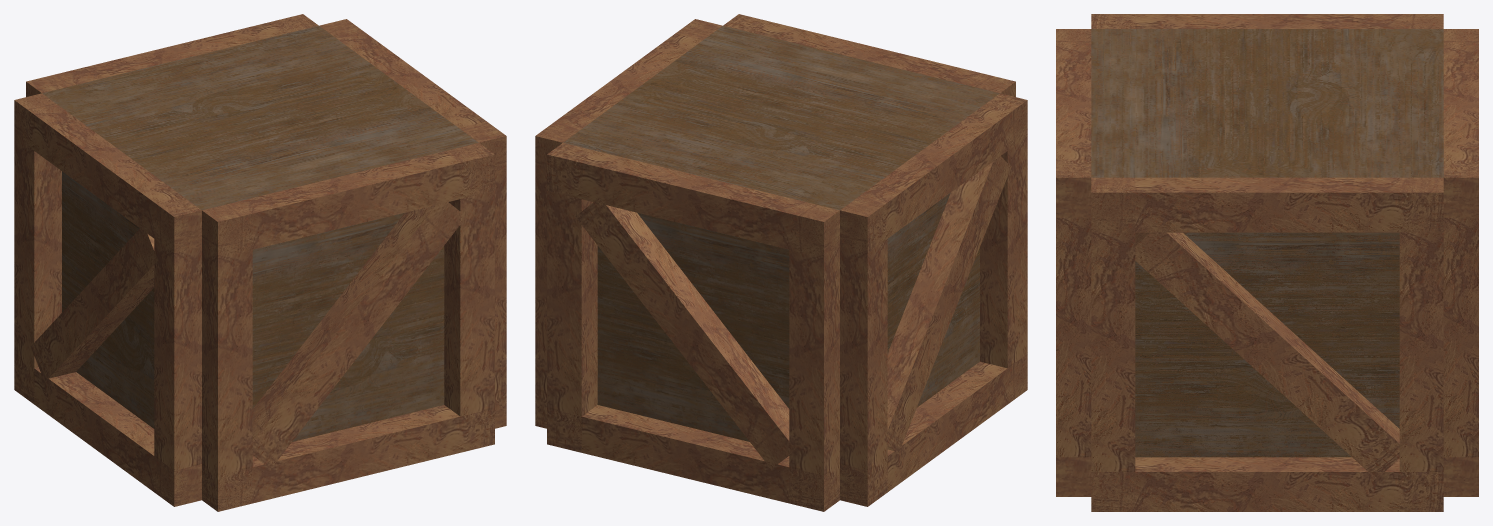
File: Caixote_Basico.fbx
3 views of the same model, side by side, from view 1: azimuth 30°, elevation 25°; view 2: azimuth 150°, elevation 25°; view 3: azimuth 270°, elevation 25° (orthographic). The views are drawn at different scales.
Parts seen in each view (by area): view 1: Caixote; view 2: Caixote; view 3: Caixote.
Boxes of the visible parts, x1,y1,x2,y2 form: Caixote: (14, 14, 506, 511); Caixote: (535, 14, 1027, 511); Caixote: (1056, 14, 1478, 511).
Size of the model in its own units: 60 by 50 by 60.
Materials: 2 (2 with a texture image).
